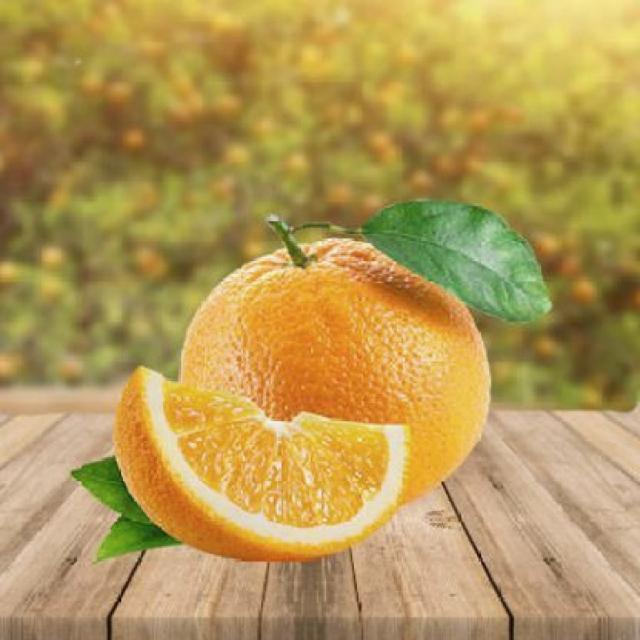Jeruk Sudah Matang: (175, 209, 500, 508)
